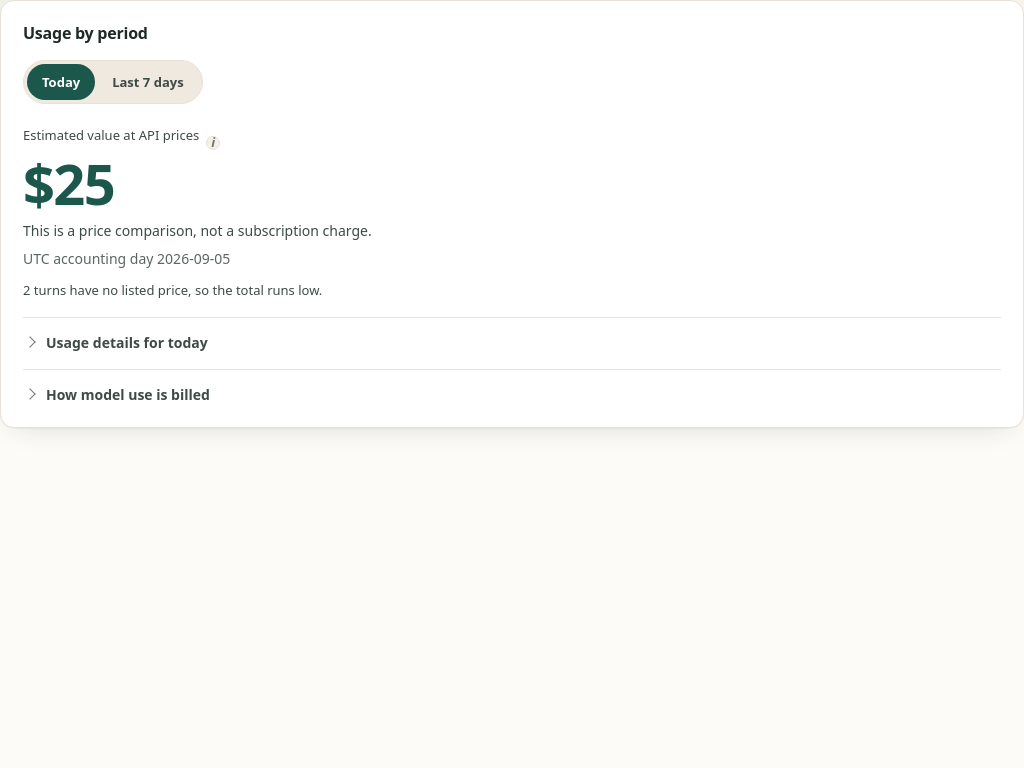
it: reports a failed save without pretending it succeeded
Click the heading "How model use is billed" at (128, 395), box [46,385,210,404]
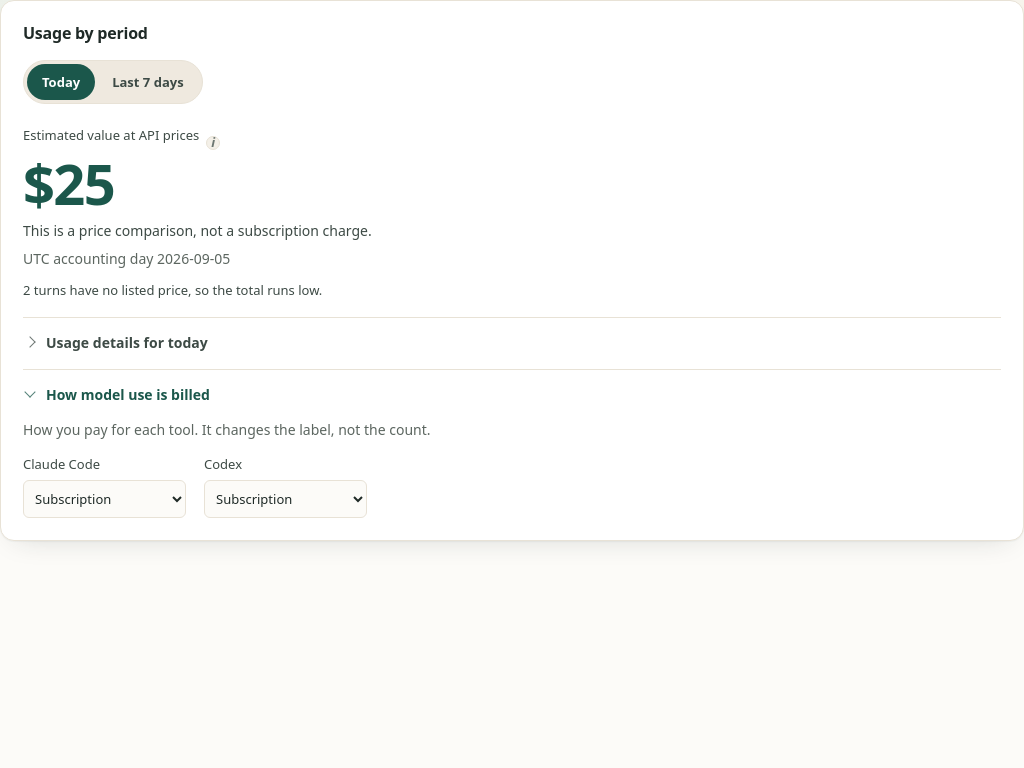
Select "Pay per use (API)" in the dropdown labelled "Codex" at (286, 499), box [204,480,367,518]
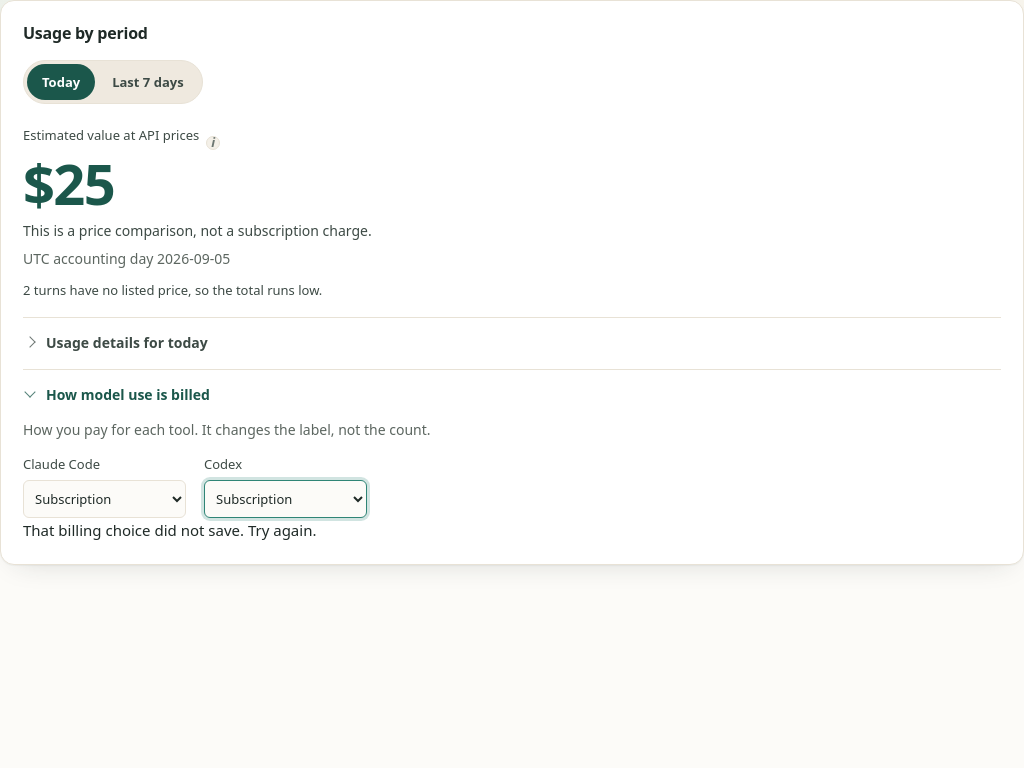
Expected: the message "That billing choice did not save. Try again." is shown, [23,520,316,540]
